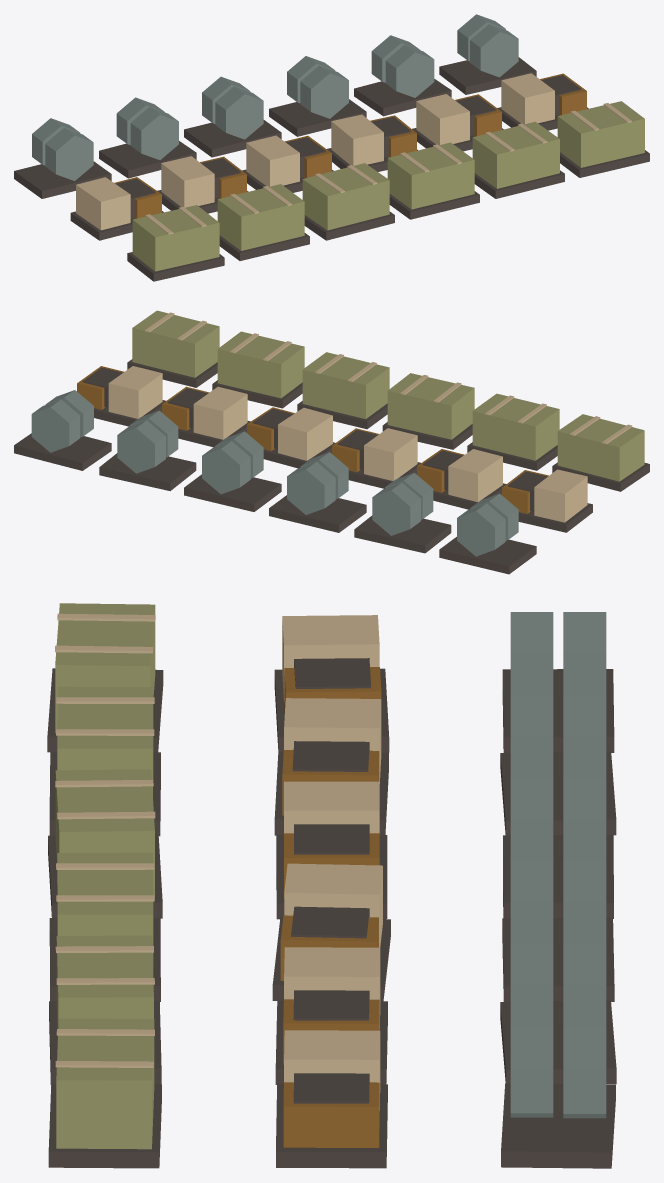
Rendered from SM_AcopioMateriales_v0_Lleno_LOD1.fbx.
3 renders of one model, top to bottom at view 1: azimuth 30°, elevation 25°; view 2: azimuth 150°, elevation 25°; view 3: azimuth 270°, elevation 25°, orthographic. The views are drawn at different scales.
Visible parts, largest first — view 1: SM_acopio_carga_v10_LOD1; view 2: SM_acopio_carga_v10_LOD1; view 3: SM_acopio_carga_v10_LOD1.
Part boxes in pixels (left/top/right/bottom): SM_acopio_carga_v10_LOD1: left=14, top=14, right=649, bottom=281; SM_acopio_carga_v10_LOD1: left=14, top=310, right=649, bottom=574; SM_acopio_carga_v10_LOD1: left=47, top=603, right=616, bottom=1168.
Bounding box in the file's own units: 9.1 × 0.94 × 4.52.
